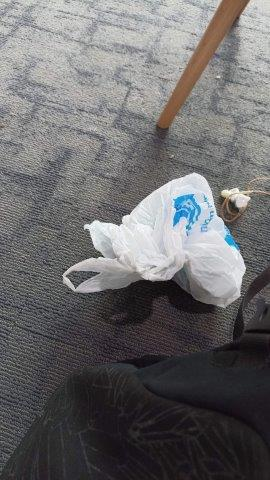plastik: (64, 175, 245, 308)
